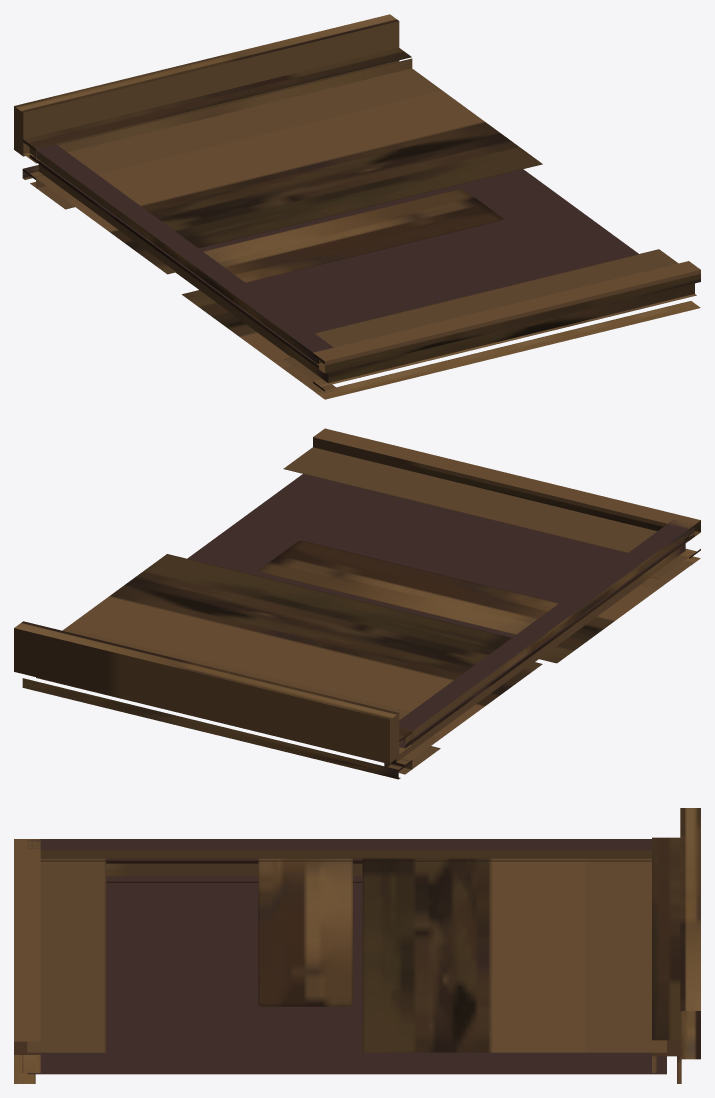
Rendered from section-3.obj.
3 views of the same model, one above another, from view 1: azimuth 30°, elevation 25°; view 2: azimuth 150°, elevation 25°; view 3: azimuth 270°, elevation 25° (orthographic). The views are drawn at different scales.
Size of the model in its own units: 0.81 by 0.136 by 1.16.
